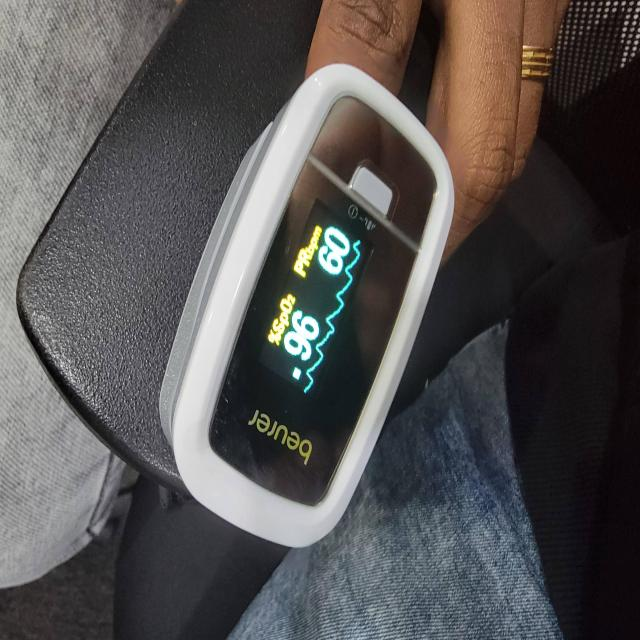spo2: (158, 63, 455, 551)
